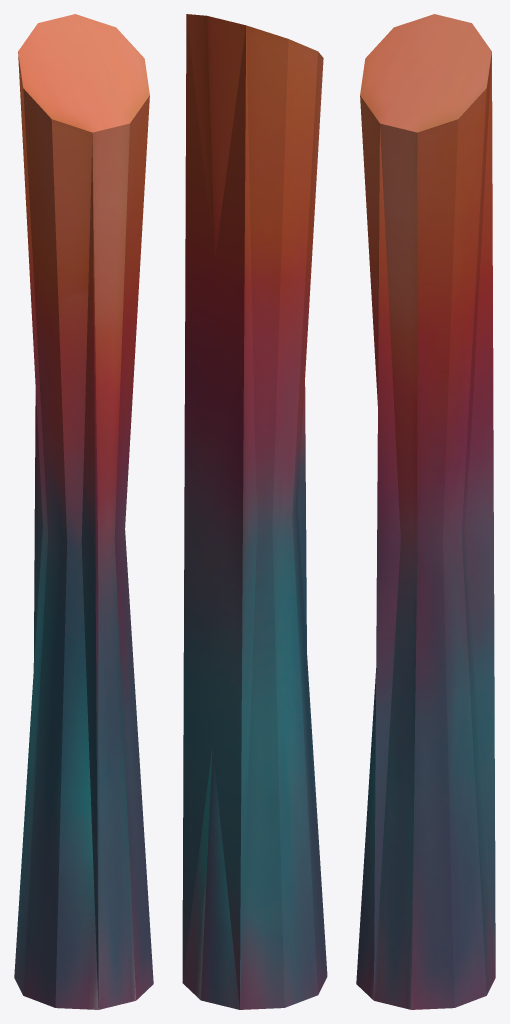
File: E_Bollard1.fbx
3 views of the same model, side by side, from view 1: azimuth 30°, elevation 25°; view 2: azimuth 150°, elevation 25°; view 3: azimuth 330°, elevation 25° (orthographic). The views are drawn at different scales.
Visible parts, largest first — view 1: hp_bollard1, lp_bollard1, mp_bollard1; view 2: hp_bollard1, lp_bollard1; view 3: hp_bollard1, lp_bollard1, mp_bollard1.
Boxes of the visible parts, left/top/right/bottom form: hp_bollard1: left=14, top=14, right=153, bottom=1009; lp_bollard1: left=33, top=23, right=114, bottom=1007; mp_bollard1: left=23, top=23, right=149, bottom=131; hp_bollard1: left=182, top=14, right=327, bottom=1009; lp_bollard1: left=182, top=15, right=306, bottom=1009; hp_bollard1: left=356, top=14, right=495, bottom=1009; lp_bollard1: left=374, top=15, right=495, bottom=995; mp_bollard1: left=366, top=14, right=490, bottom=122.
Size of the model in its own units: 14 by 104 by 13.31.
